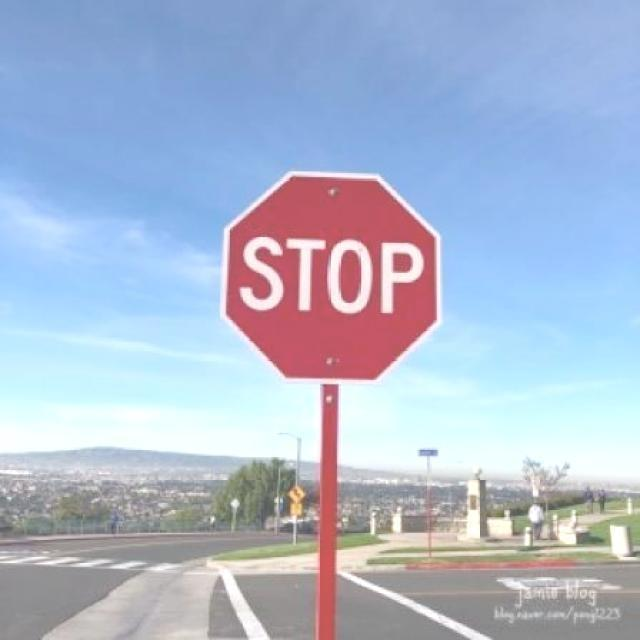Stop-Sign: (224, 172, 440, 380)
